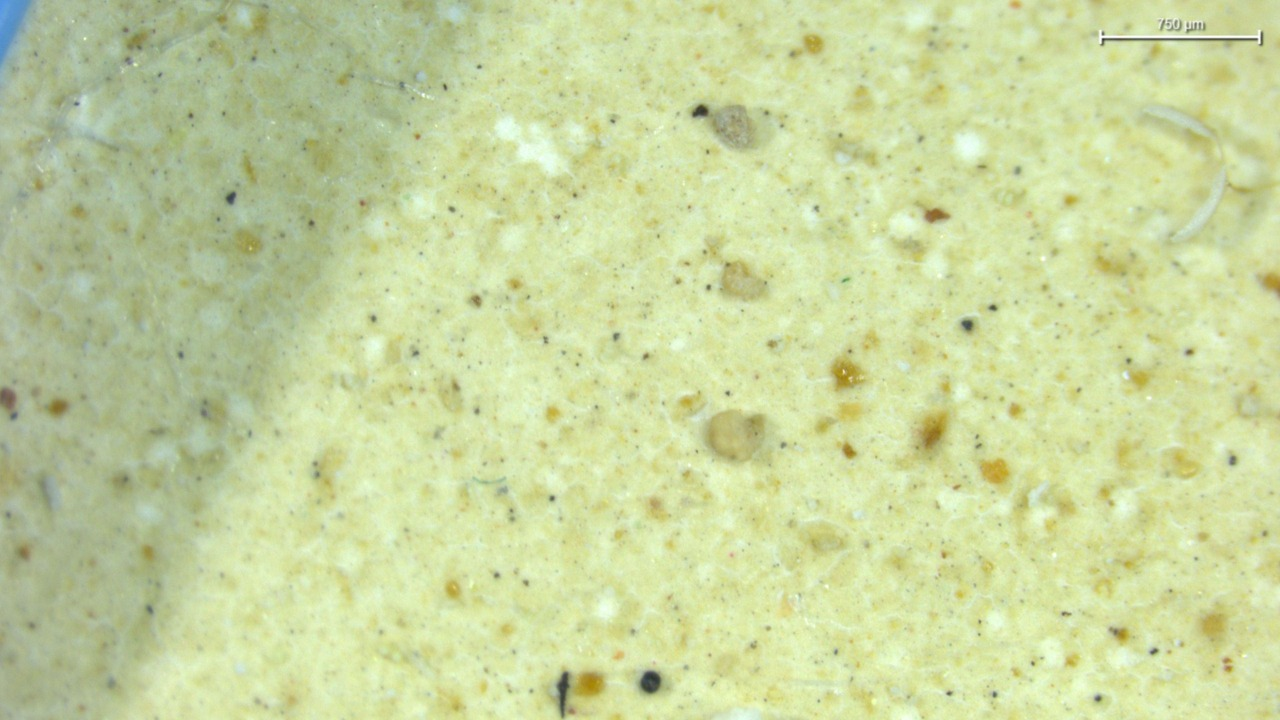microplastic_fragment: (710, 412, 764, 461), (719, 105, 749, 148)
